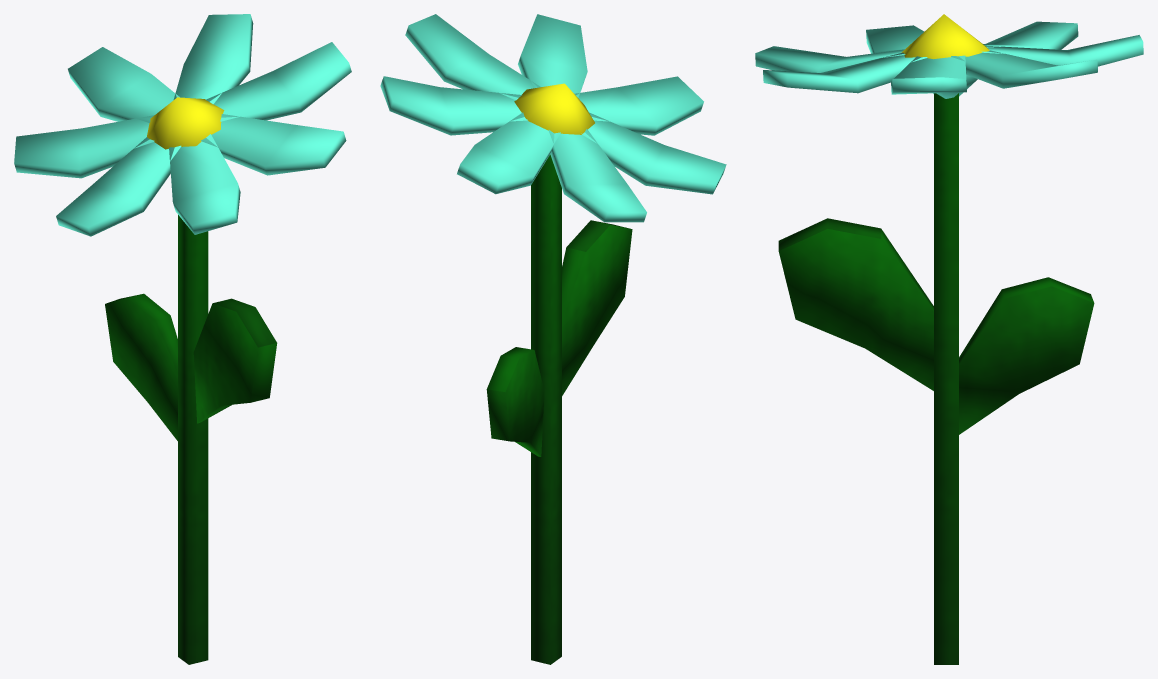
File: daisy.001.fbx
The picture shows the model from 3 angles, left to right: view 1: azimuth 30°, elevation 25°; view 2: azimuth 150°, elevation 25°; view 3: azimuth 270°, elevation 25°; orthographic projection. The views are drawn at different scales.
Parts seen in each view (by area): view 1: daisy.001; view 2: daisy.001; view 3: daisy.001.
Boxes of the visible parts, bbox=[...] form: daisy.001: bbox=[14, 14, 351, 664]; daisy.001: bbox=[380, 14, 726, 664]; daisy.001: bbox=[755, 14, 1143, 664].
Size of the model in its own units: 0.3072 by 0.5888 by 0.3154.
